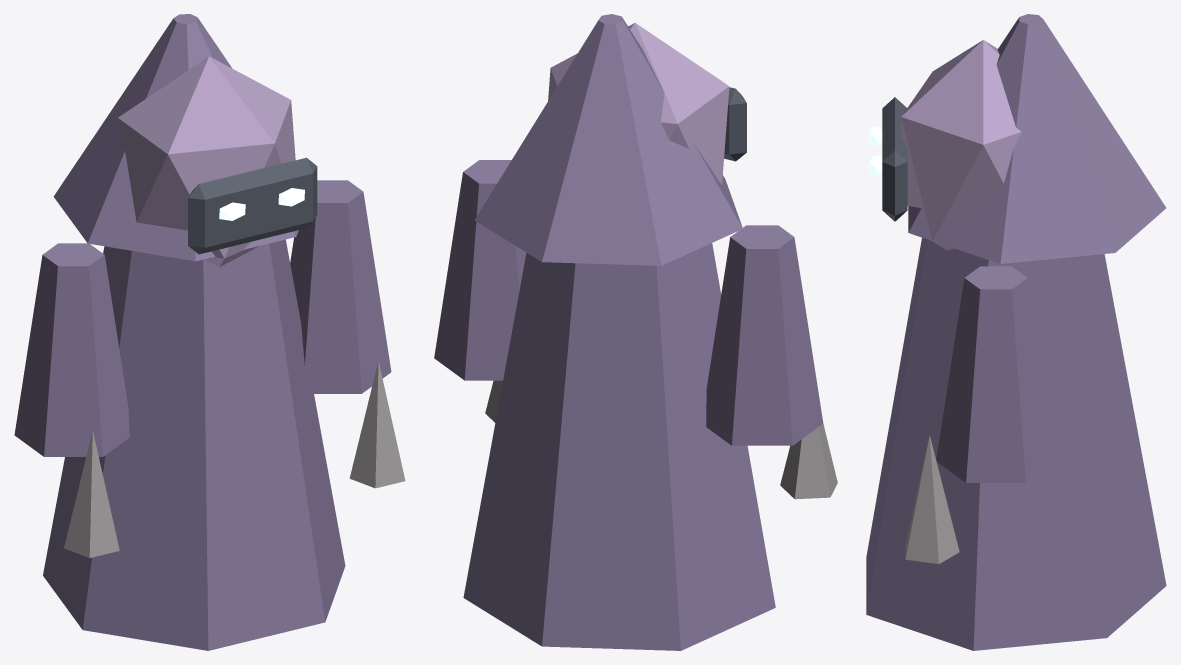
File: shade.glb
3 views of the same model, side by side, from view 1: azimuth 30°, elevation 25°; view 2: azimuth 150°, elevation 25°; view 3: azimuth 270°, elevation 25° (orthographic). The views are drawn at different scales.
Visible parts, largest first — view 1: Tattered robe, Hollow skull, Claw sleeve.001, Claw sleeve, Dark cowl, Face abyss, Claw.001, Claw; view 2: Tattered robe, Dark cowl, Claw sleeve.001, Claw sleeve, Hollow skull, Claw.001, Face abyss; view 3: Tattered robe, Dark cowl, Claw sleeve, Hollow skull, Claw, Face abyss.
Boxes of the visible parts, bbox=[...] form: Tattered robe: bbox=[43, 239, 345, 650]; Hollow skull: bbox=[118, 56, 295, 266]; Claw sleeve.001: bbox=[14, 243, 129, 456]; Claw sleeve: bbox=[290, 180, 391, 393]; Dark cowl: bbox=[53, 14, 298, 261]; Face abyss: bbox=[188, 157, 317, 254]; Claw.001: bbox=[64, 430, 119, 557]; Claw: bbox=[349, 361, 405, 488]; Tattered robe: bbox=[463, 243, 775, 650]; Dark cowl: bbox=[474, 14, 742, 265]; Claw sleeve.001: bbox=[706, 225, 823, 445]; Claw sleeve: bbox=[434, 160, 526, 380]; Hollow skull: bbox=[548, 23, 729, 184]; Claw.001: bbox=[780, 424, 837, 499]; Face abyss: bbox=[724, 87, 746, 161]; Tattered robe: bbox=[866, 237, 1166, 650]; Dark cowl: bbox=[908, 14, 1166, 263]; Claw sleeve: bbox=[936, 266, 1055, 482]; Hollow skull: bbox=[901, 40, 1021, 250]; Claw: bbox=[905, 435, 959, 564]; Face abyss: bbox=[882, 97, 907, 221].
Bounding box in the file's own units: 1.29 × 1.98 × 0.9505.
